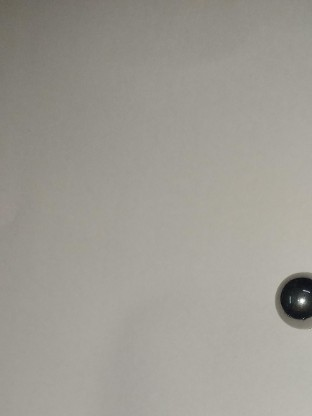ironball: (267, 266, 310, 327)
